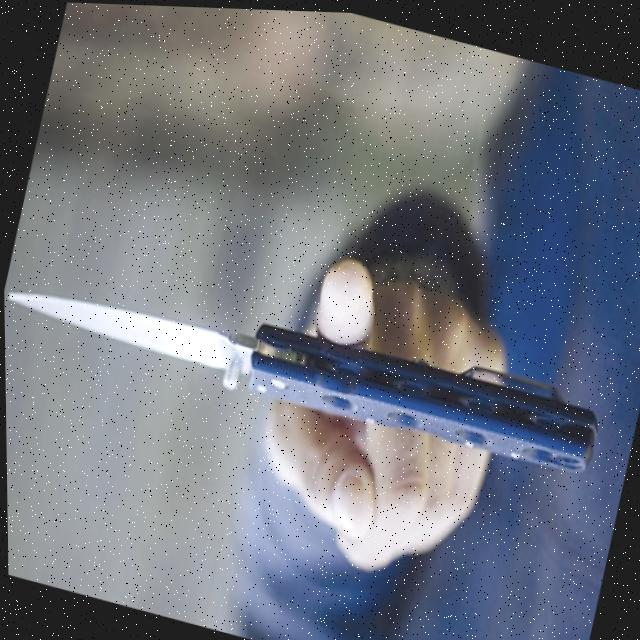knife: (3, 248, 610, 488)
